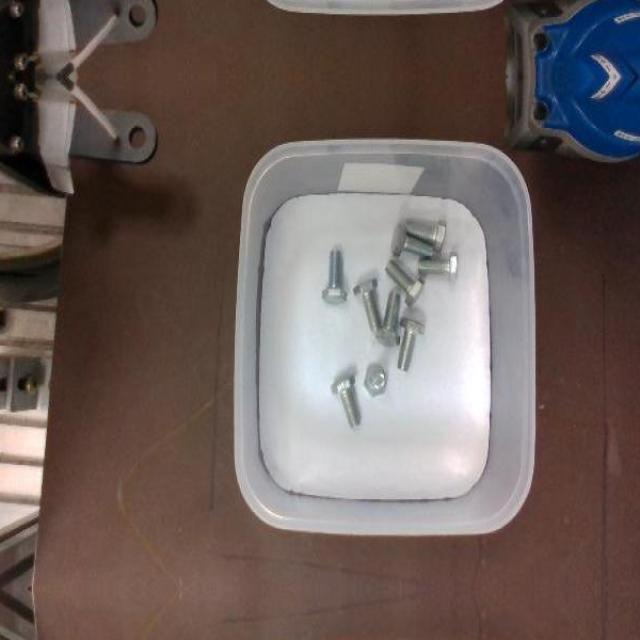screw: (384, 260, 425, 307), (396, 317, 426, 372), (330, 374, 360, 428), (390, 222, 433, 259), (352, 278, 381, 332), (405, 220, 447, 254), (375, 291, 400, 347), (322, 249, 347, 304), (417, 251, 458, 283), (364, 364, 388, 395)
